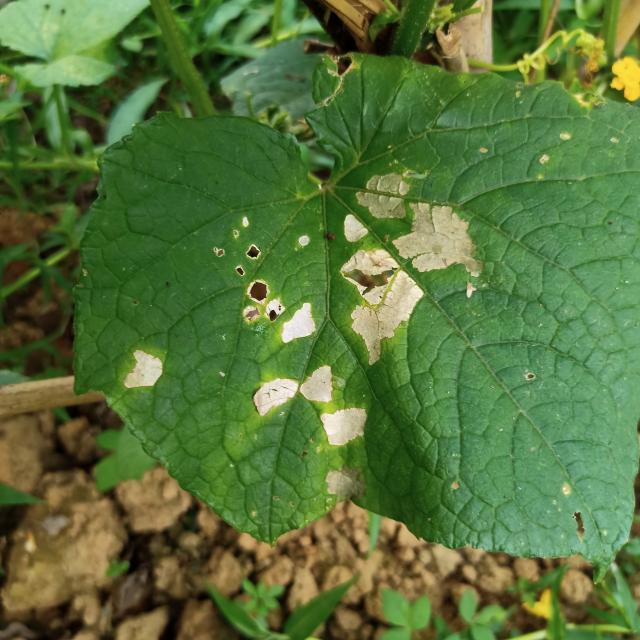disease_cucumber: (344, 170, 481, 368), (213, 215, 323, 349), (248, 363, 374, 452), (122, 343, 172, 399)
